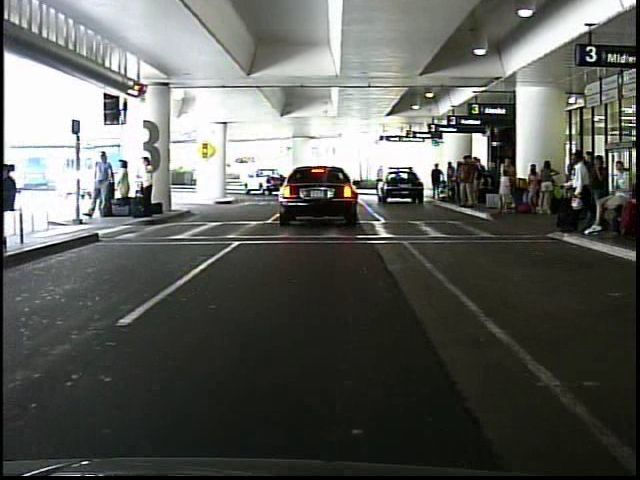person: (87, 148, 118, 223), (138, 152, 157, 218), (116, 157, 135, 212), (430, 162, 445, 201)
